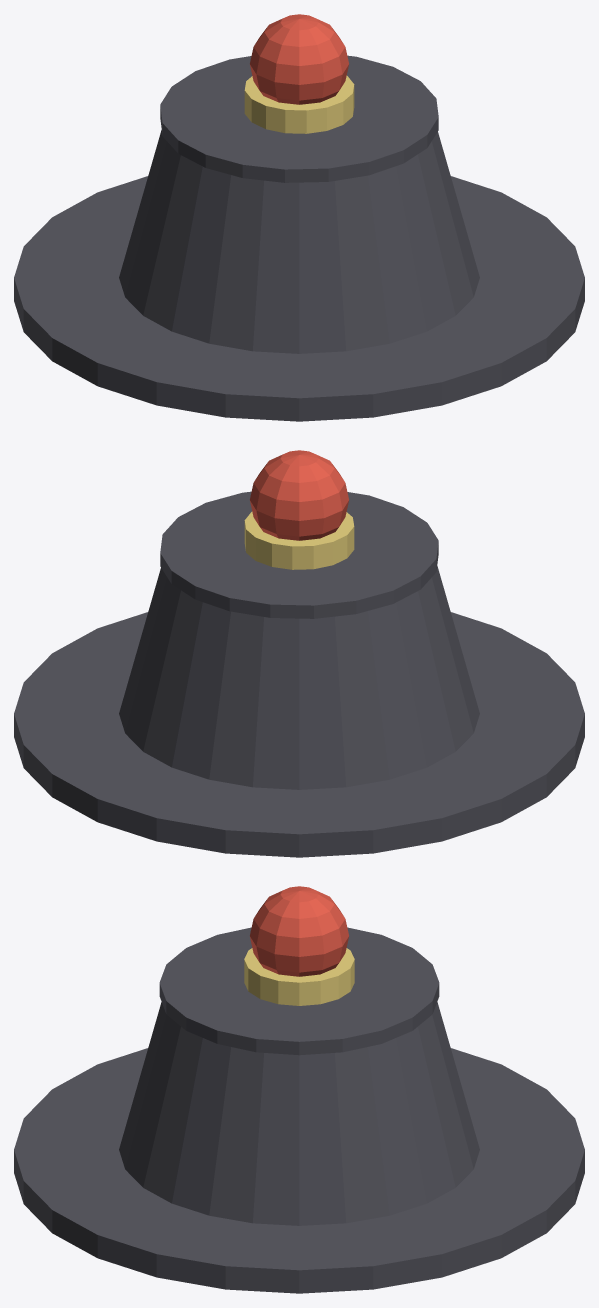
File: jiangshi_hat.glb
The picture shows the model from 3 angles, top to bottom: view 1: azimuth 30°, elevation 25°; view 2: azimuth 150°, elevation 25°; view 3: azimuth 270°, elevation 25°; orthographic projection.
Parts seen in each view (by area): view 1: jiangshi_hat; view 2: jiangshi_hat; view 3: jiangshi_hat.
Part boxes in pixels (x1,y1,x2,y2): jiangshi_hat: (14, 14, 584, 421); jiangshi_hat: (14, 450, 584, 857); jiangshi_hat: (14, 886, 584, 1293).
Bounding box in the file's own units: 0.589 × 0.3211 × 0.589.
